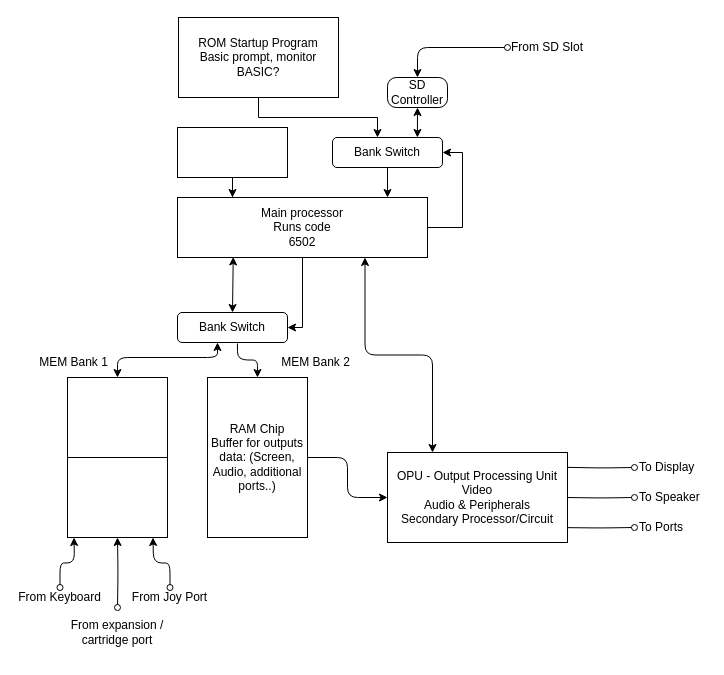
The diagram is 724 pixels wide and 675 high, and some of its shapes have lost their labels. The centre of each missing label's shape, as x and y in pixels:
"Memory Mapped Input Peripherals" belongs at [117,497].
"RAM Chip Program Ram Input Peripherals" belongs at [117,417].
"ROM Nescessary Routines & Important stuff" belongs at [232,152].
